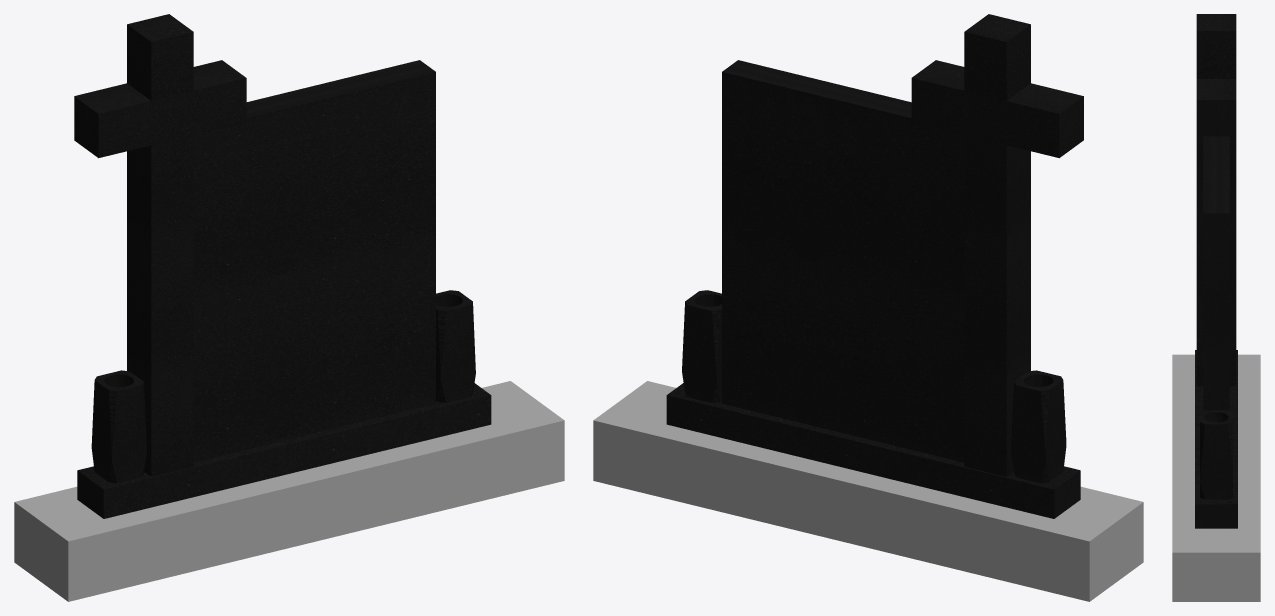
File: monument-51-granit-negru.glb
3 renders of one model, left to right at view 1: azimuth 30°, elevation 25°; view 2: azimuth 150°, elevation 25°; view 3: azimuth 270°, elevation 25°, orthographic. The views are drawn at different scales.
Parts seen in each view (by area): view 1: Box (×3), Box 3, Box 1, Group, Box 2; view 2: Box (×3), Box 3, Box 1, Group, Box 2; view 3: Box (×3), Group, Box 3, Box 2, Box 1.
Boxes of the visible parts, x1,y1,x2,y2 form: Box (×3): (14, 60, 564, 601); Box 3: (77, 383, 491, 518); Box 1: (74, 60, 246, 158); Group: (91, 290, 475, 483); Box 2: (127, 14, 193, 100); Box (×3): (593, 60, 1143, 601); Box 3: (666, 383, 1080, 518); Box 1: (911, 60, 1083, 158); Group: (682, 290, 1066, 483); Box 2: (964, 14, 1030, 100); Box (×3): (1172, 136, 1260, 601); Group: (1200, 410, 1232, 499); Box 3: (1195, 350, 1237, 528); Box 2: (1196, 14, 1236, 78); Box 1: (1196, 79, 1236, 136).
Bounding box in the file's own units: 141 × 142 × 26.57.
Materials: 8 (7 with a texture image).
